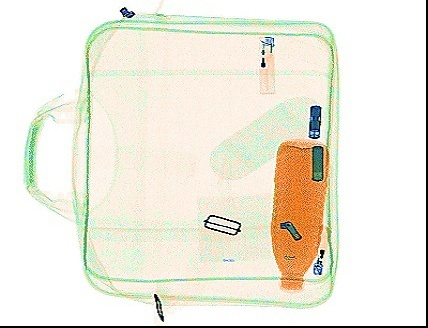lighter: (255, 33, 277, 96), (312, 220, 329, 276)
